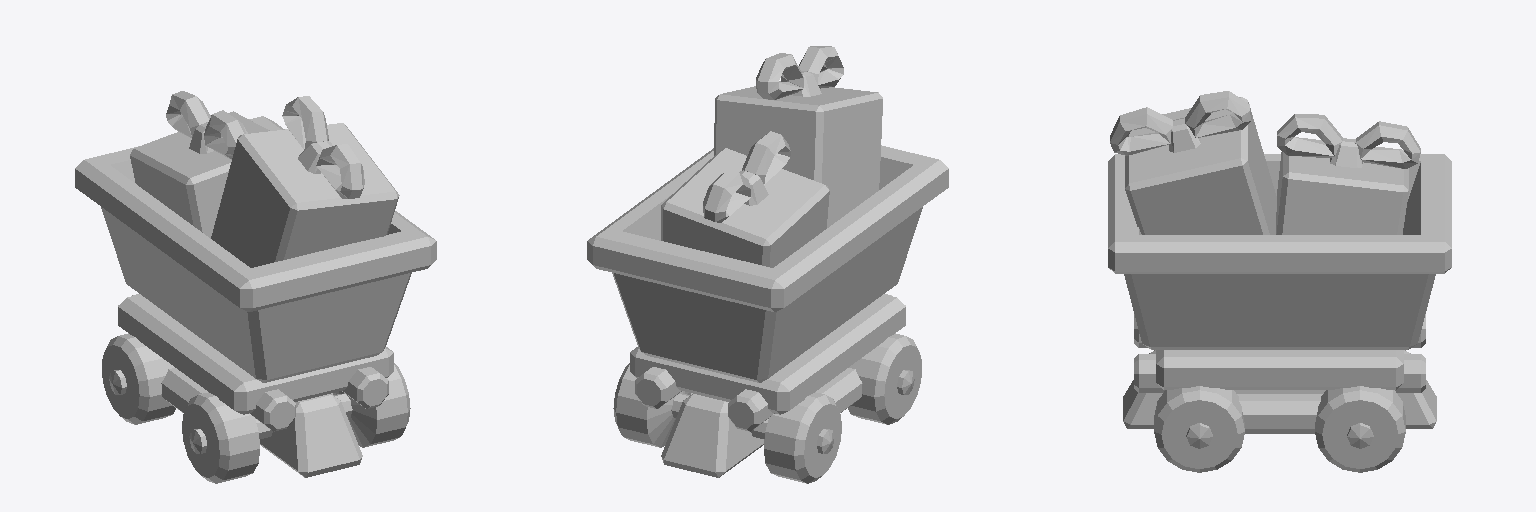
The model's file is train_tender_presents_B.obj.
3 views of the same model, side by side, from view 1: azimuth 30°, elevation 25°; view 2: azimuth 150°, elevation 25°; view 3: azimuth 270°, elevation 25° (orthographic).
Parts seen in each view (by area): view 1: train_tender_presents_B; view 2: train_tender_presents_B; view 3: train_tender_presents_B.
Part boxes in pixels (bbox=[...]): train_tender_presents_B: bbox=[75, 91, 436, 483]; train_tender_presents_B: bbox=[587, 46, 948, 483]; train_tender_presents_B: bbox=[1108, 91, 1451, 472].
Size of the model in its own units: 0.4459 by 0.715 by 0.6421.